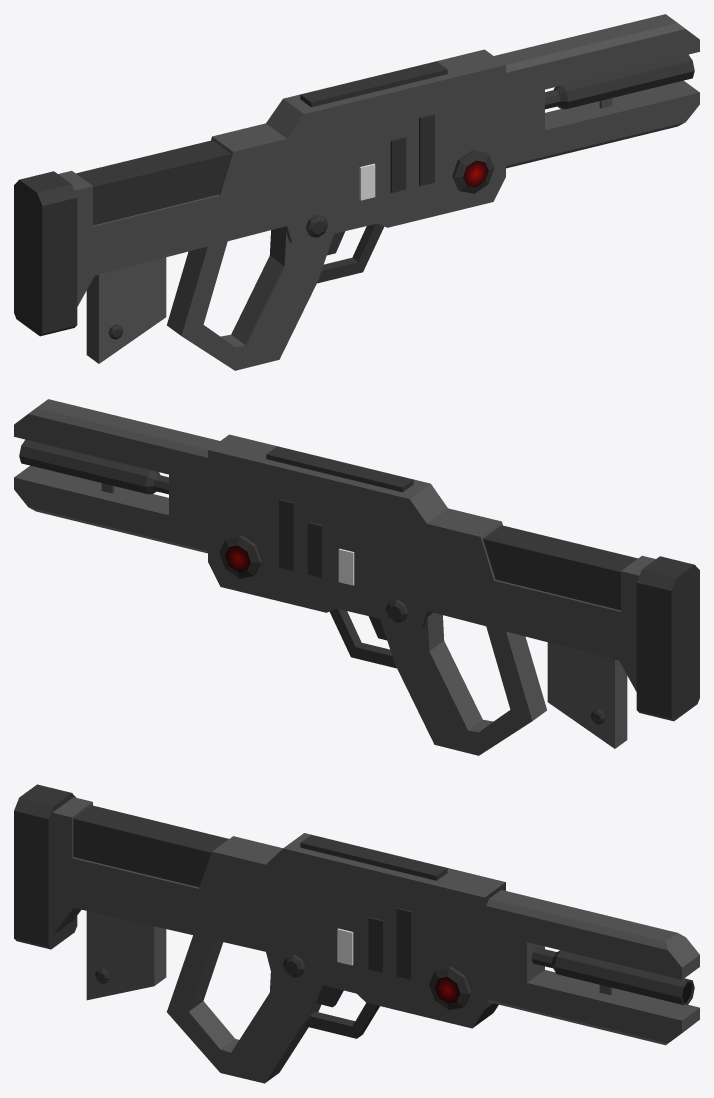
File: Rifle_F_V1.FBX
3 views of the same model, one above another, from view 1: azimuth 30°, elevation 25°; view 2: azimuth 150°, elevation 25°; view 3: azimuth 330°, elevation 25° (orthographic).
Visible parts, largest first — view 1: Rifle_F_V1, Magazine; view 2: Rifle_F_V1, Magazine; view 3: Rifle_F_V1, Magazine.
Boxes of the visible parts, <box> form: Rifle_F_V1: <box>14,14,699,370</box>; Magazine: <box>86,257,166,363</box>; Rifle_F_V1: <box>14,399,699,755</box>; Magazine: <box>547,642,627,748</box>; Rifle_F_V1: <box>14,784,699,1083</box>; Magazine: <box>86,911,166,1000</box>.
Size of the model in its own units: 382 by 136 by 28.39.
